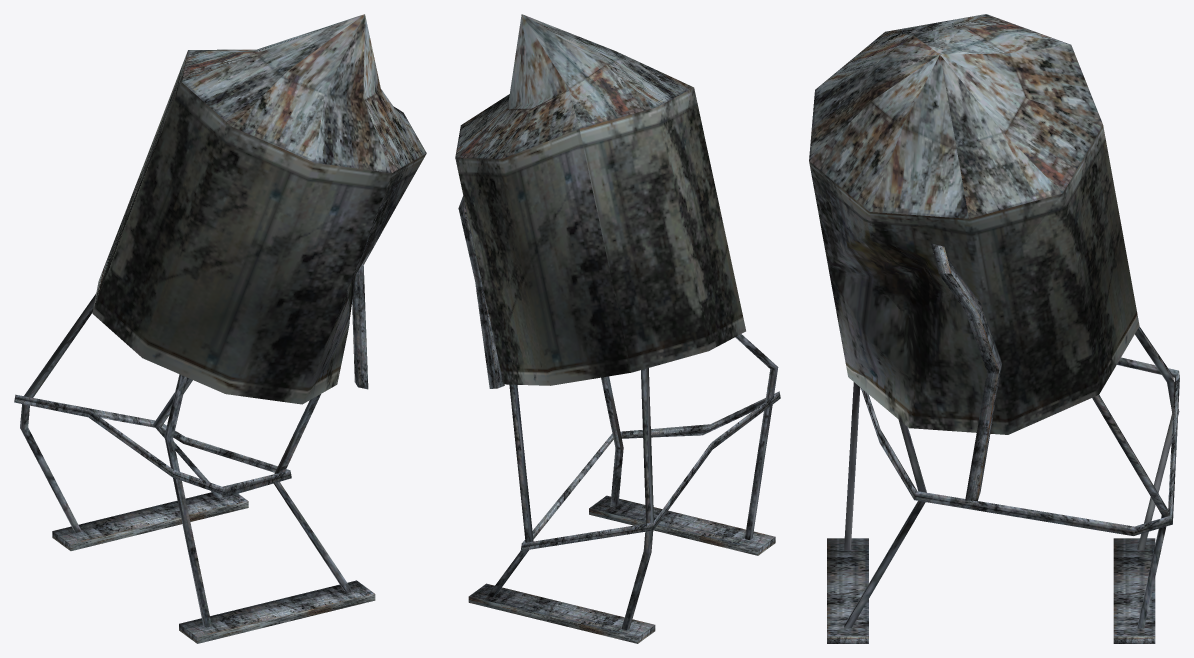
Rendered from WaterReservoirWrecked.fbx.
3 views of the same model, side by side, from view 1: azimuth 30°, elevation 25°; view 2: azimuth 150°, elevation 25°; view 3: azimuth 270°, elevation 25° (orthographic). The views are drawn at different scales.
Visible parts, largest first — view 1: WaterReservoirWrecked; view 2: WaterReservoirWrecked; view 3: WaterReservoirWrecked.
Boxes of the visible parts, x1=… form: WaterReservoirWrecked: x1=14, y1=14, x2=426, y2=643; WaterReservoirWrecked: x1=455, y1=14, x2=780, y2=643; WaterReservoirWrecked: x1=809, y1=14, x2=1179, y2=643.
Bounding box in the file's own units: 491 × 856 × 471.
